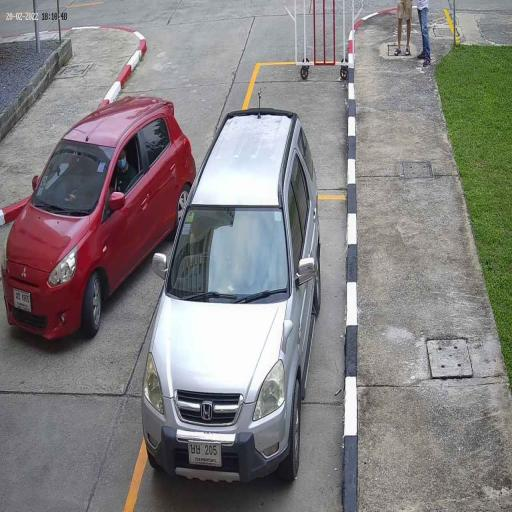car: (140, 107, 322, 490), (0, 95, 198, 344)
